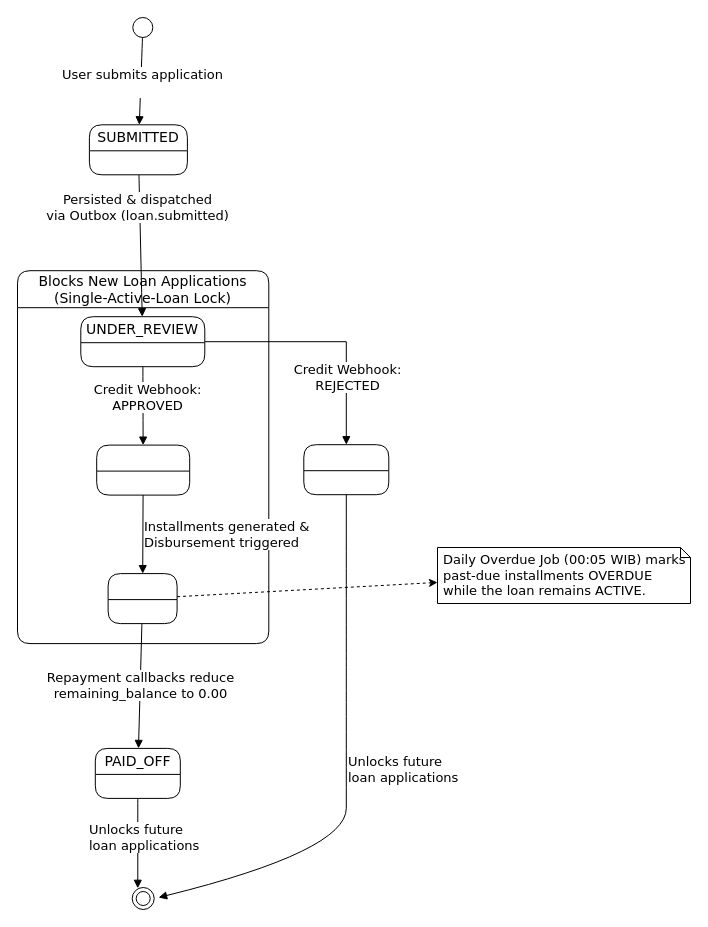
This 708x927 diagram has some shape labels left out. Here are the shapes that lost their labels. From the top down, the centre of each, then its label:
At [143,469]: "APPROVED".
At [346,469]: "REJECTED".
At [142,598]: "ACTIVE".
